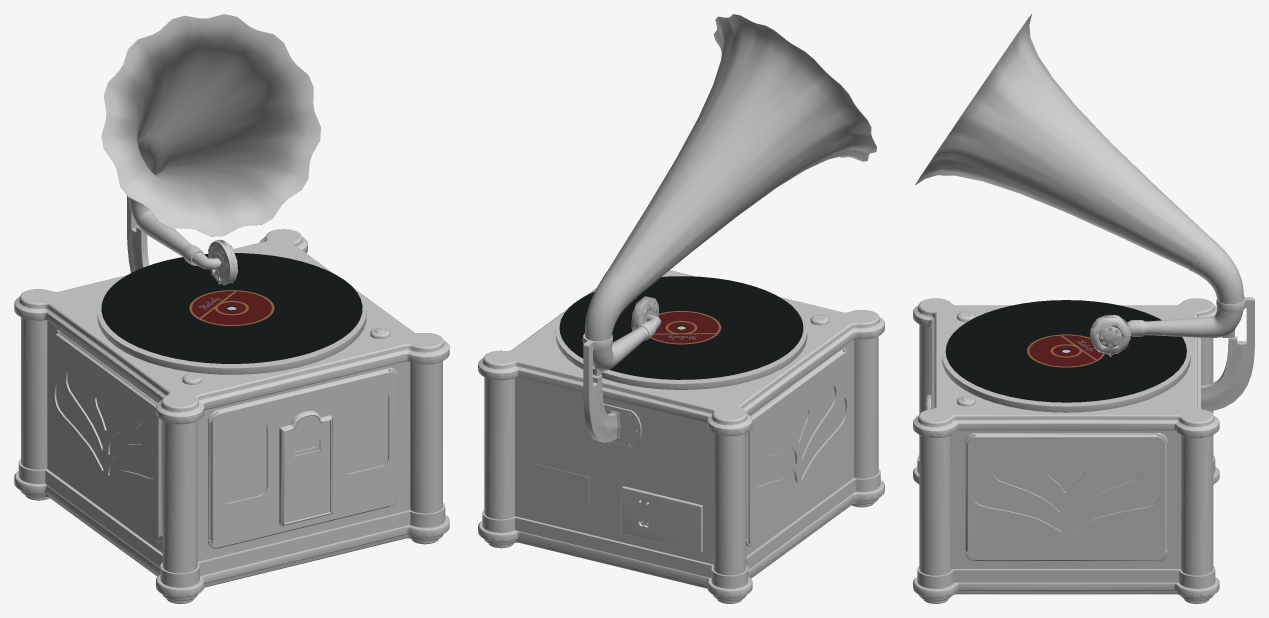
File: gramophone.fbx
3 renders of one model, left to right at view 1: azimuth 30°, elevation 25°; view 2: azimuth 150°, elevation 25°; view 3: azimuth 270°, elevation 25°, orthographic. The views are drawn at different scales.
Parts seen in each view (by area): view 1: Box_GramaphoneT_0, CircleRotate_Gramaphone_0; view 2: Box_GramaphoneT_0, CircleRotate_Gramaphone_0; view 3: Box_GramaphoneT_0, CircleRotate_Gramaphone_0.
Part boxes in pixels (box(x1,y1,x2,y2)): Box_GramaphoneT_0: box(14, 14, 449, 603); CircleRotate_Gramaphone_0: box(97, 253, 366, 374); Box_GramaphoneT_0: box(478, 14, 884, 603); CircleRotate_Gramaphone_0: box(555, 276, 807, 389); Box_GramaphoneT_0: box(913, 14, 1254, 603); CircleRotate_Gramaphone_0: box(942, 300, 1190, 412).
Size of the model in its own units: 40.88 by 67.34 by 42.36.
